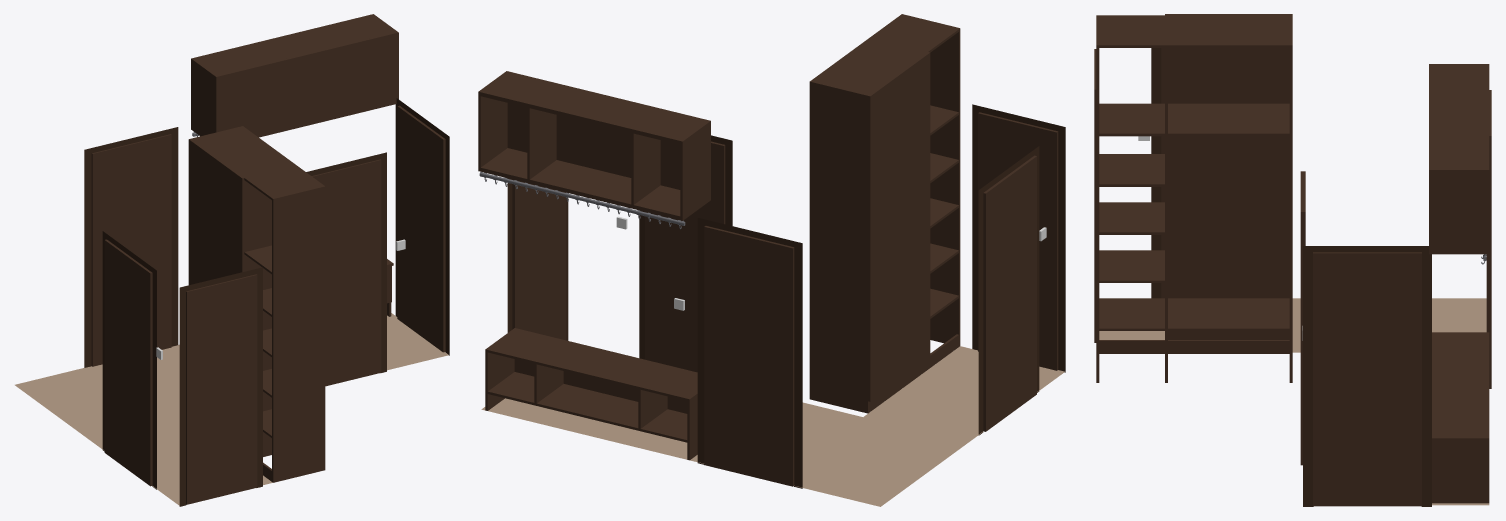
File: hallway.glb
3 views of the same model, side by side, from view 1: azimuth 30°, elevation 25°; view 2: azimuth 150°, elevation 25°; view 3: azimuth 270°, elevation 25° (orthographic). The views are drawn at different scales.
Parts seen in each view (by area): view 1: Leaf_Kitchen, Wardrobe_side_rigth, Leaf_Bathroom, Leaf_Exit, Leaf_Bedroom, Leaf_LivingRoom, Floor.001, Porte_door_upper_mid, Porte_T_top, Wardrobe_top, Frame_Exit, Wardrobe_Cube.009 (+9 smaller); view 2: Leaf_Exit, Floor.001, Wardrobe_side_left, Leaf_Bedroom, Wardrobe_Cube.009, Wardrobe_Cube.006, Leaf_Bathroom, Leaf_LivingRoom, Leaf_Kitchen, Wardrobe_side_rigth, Porte_T_top, Porte_SC_top (+21 smaller); view 3: Leaf_LivingRoom, Wardrobe_Cube.006, Wardrobe_Cube.009, Wardrobe_top, Porte_T_top, Porte_SC_top, Frame_LivingRoom, Porte_T_side_right, Wardrobe_shelf_big, Wardrobe_shelf_big.001, Porte_SC_side_right, Floor.001 (+15 smaller).
Part boxes in pixels (x1,y1,x2,y2): Leaf_Kitchen: (186,274,257,504); Wardrobe_side_rigth: (272,188,325,482); Leaf_Bathroom: (312,159,381,386); Leaf_Exit: (91,134,171,366); Leaf_Bedroom: (104,239,152,486); Leaf_LivingRoom: (397,105,445,352); Floor.001: (15,313,448,505); Porte_door_upper_mid: (260,42,353,136); Porte_T_top: (191,14,396,79); Wardrobe_top: (191,126,325,201); Frame_Exit: (84,127,178,367); Wardrobe_Cube.009: (188,138,216,285); Leaf_Exit: (704,226,794,486); Floor.001: (481,346,1064,506); Wardrobe_side_left: (809,84,869,413); Leaf_Bedroom: (983,155,1036,431); Wardrobe_Cube.009: (868,74,900,401); Wardrobe_Cube.006: (898,52,930,379); Leaf_Bathroom: (645,141,725,372); Leaf_LivingRoom: (512,179,566,340); Leaf_Kitchen: (978,112,1058,370); Wardrobe_side_rigth: (930,31,960,346); Porte_T_top: (478,72,709,145); Porte_SC_top: (485,328,697,401); Leaf_LivingRoom: (1313,252,1421,506); Wardrobe_Cube.006: (1165,14,1228,339); Wardrobe_Cube.009: (1229,14,1292,339); Wardrobe_top: (1096,15,1292,47); Porte_T_top: (1432,64,1489,173); Porte_SC_top: (1432,332,1489,440); Frame_LivingRoom: (1303,246,1431,506); Porte_T_side_right: (1432,174,1489,249); Wardrobe_shelf_big: (1168,103,1289,136); Wardrobe_shelf_big.001: (1168,298,1289,330); Porte_SC_side_right: (1432,441,1489,503); Floor.001: (1099,298,1489,505).
Size of the model in its own units: 3.46 by 2.61 by 2.77.
